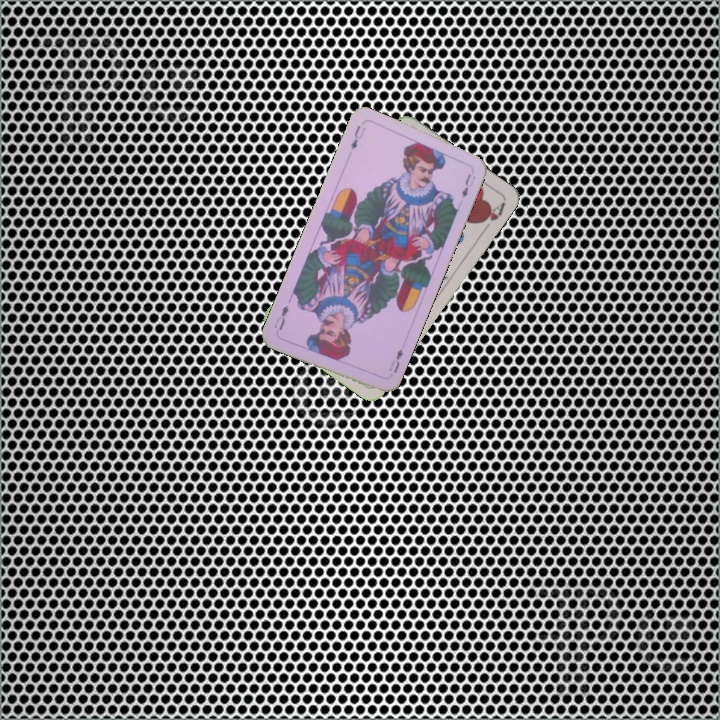EU: (346, 122, 368, 152), (385, 344, 406, 375)
